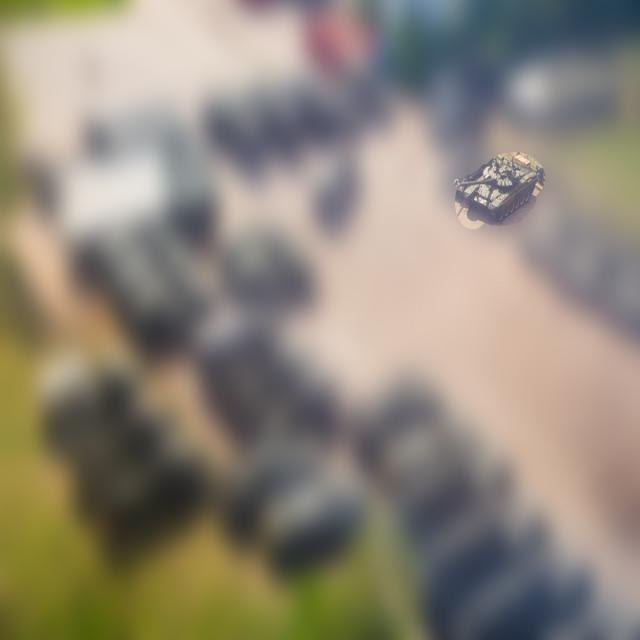tank: (454, 152, 545, 227)
